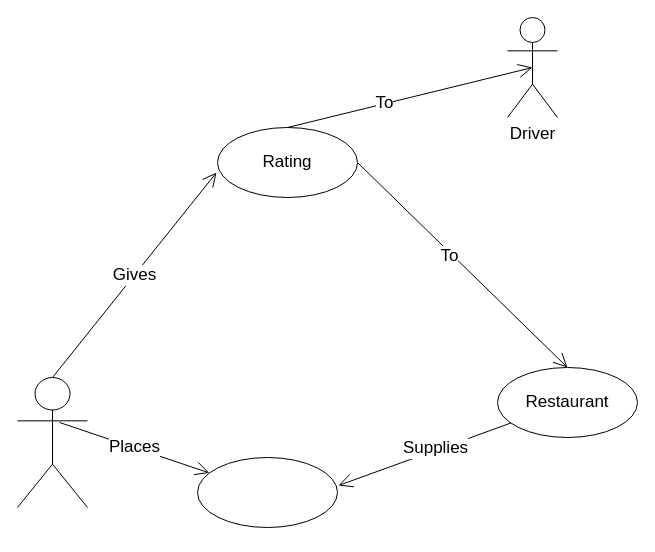
The diagram is 655 pixels wide and 552 high, and some of its shapes have lost their labels. The shapes that lost their labels are listed below. From the top down, each one's centre as x and y in pixels, then its label:
the point at 52,442: Person
the point at 267,492: Order
